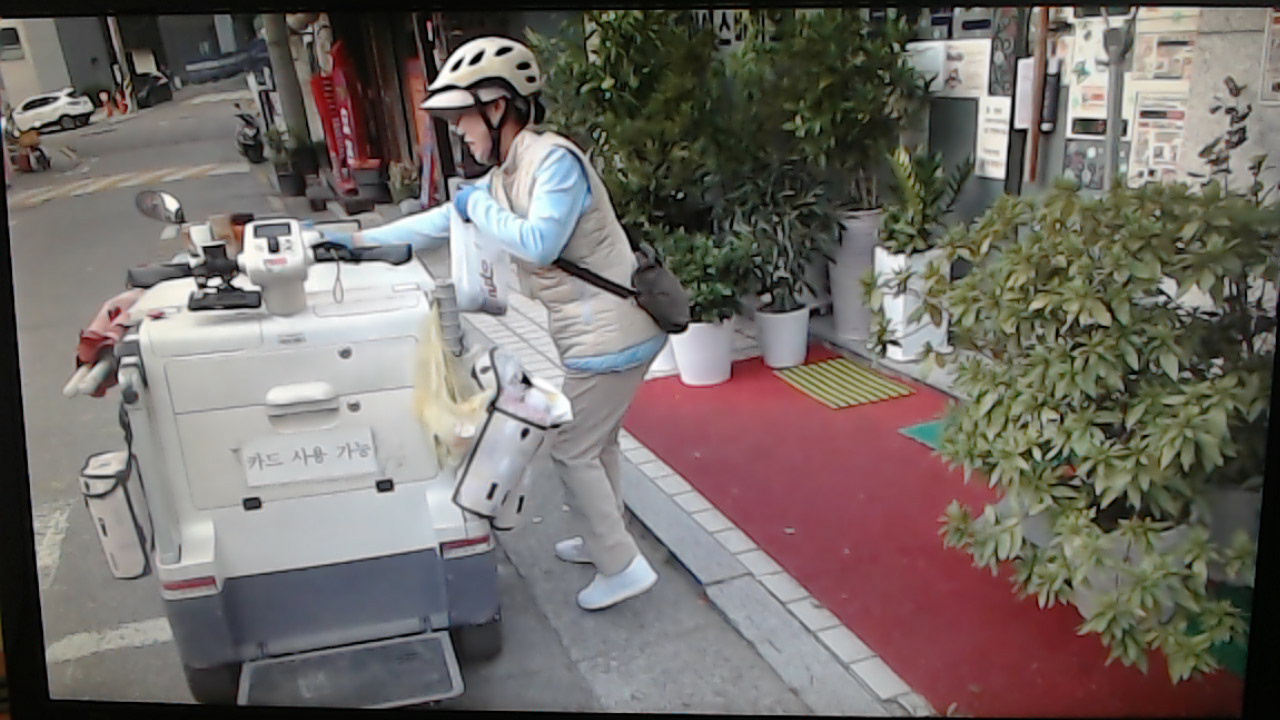Yakurut: (276, 13, 714, 657)
